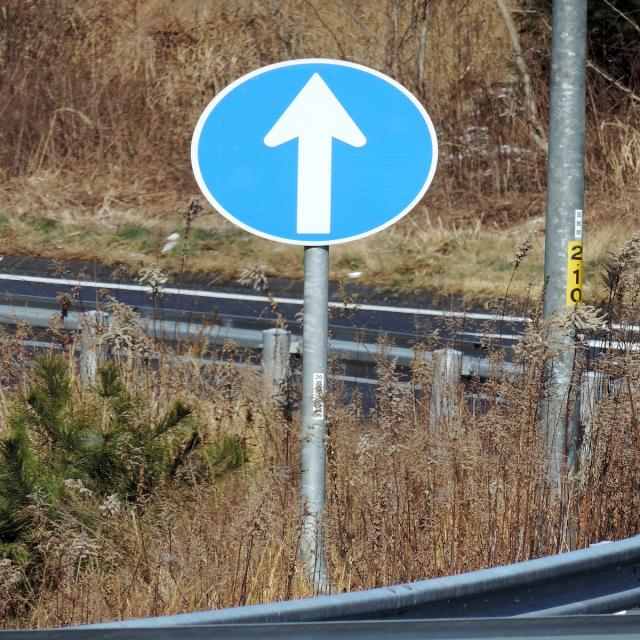STRAIGHT: (191, 60, 437, 245)
